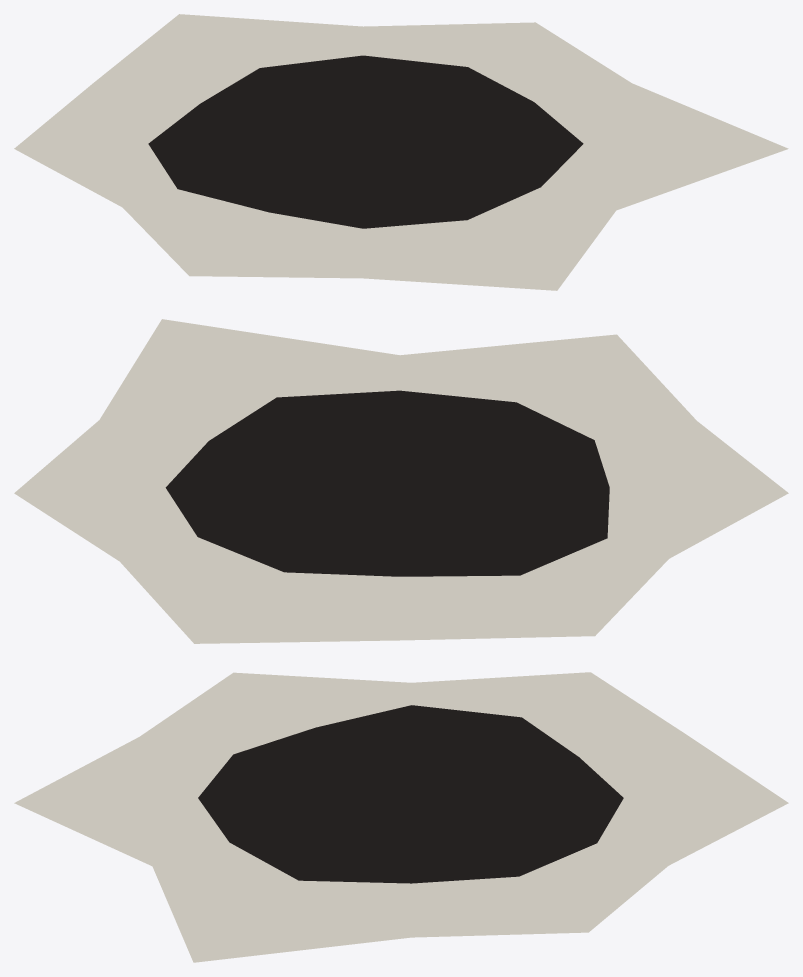
Rendered from hole_wall_04.obj.
The picture shows the model from 3 angles, top to bottom: view 1: azimuth 30°, elevation 25°; view 2: azimuth 150°, elevation 25°; view 3: azimuth 270°, elevation 25°; orthographic projection. The views are drawn at different scales.
Bounding box in the file's own units: 0.0485 × 0.0004 × 0.0546.
